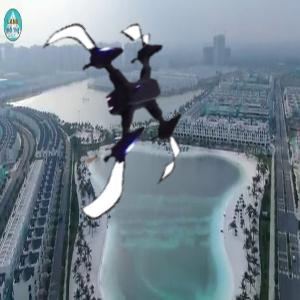drone: (21, 7, 212, 198)
